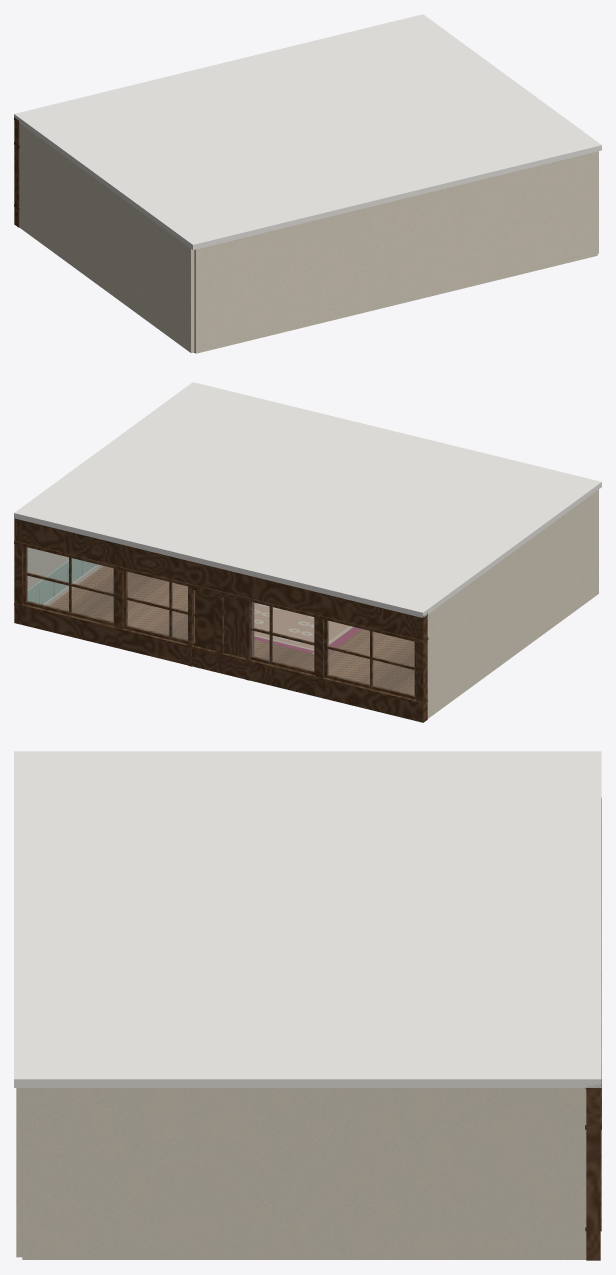
File: room_shell.glb
3 renders of one model, top to bottom at view 1: azimuth 30°, elevation 25°; view 2: azimuth 150°, elevation 25°; view 3: azimuth 270°, elevation 25°, orthographic. The views are drawn at different scales.
Parts seen in each view (by area): view 1: ceiling, wall_back, wall_left, storefront_wood; view 2: ceiling, storefront_wood, wall_left, storefront_glass, rug, wainscot, wall_right, plank_53, plank_54, plank_52, plank_50, plank_51 (+8 smaller); view 3: ceiling, wall_right, storefront_wood, wall_back.
Part boxes in pixels (x1,y1,x2,y2): ceiling: (14,14,601,249); wall_back: (194,151,597,353); wall_left: (19,123,194,352); storefront_wood: (14,117,19,227); ceiling: (14,382,601,617); storefront_wood: (14,518,428,722); wall_left: (427,489,598,718); storefront_glass: (26,547,414,695); rug: (254,603,361,653); wainscot: (27,558,97,604); wall_right: (27,547,68,589); plank_53: (52,602,414,691); plank_54: (49,604,414,694); plank_52: (55,599,414,688); plank_50: (60,596,414,683); plank_51: (58,598,414,686); ceiling: (14,751,601,1087); wall_right: (22,1088,586,1259); storefront_wood: (585,798,601,1260); wall_back: (16,1088,22,1257).
Bounding box in the file's own units: 16.3 × 4.22 × 12.36.
8 materials, 5 textured.
